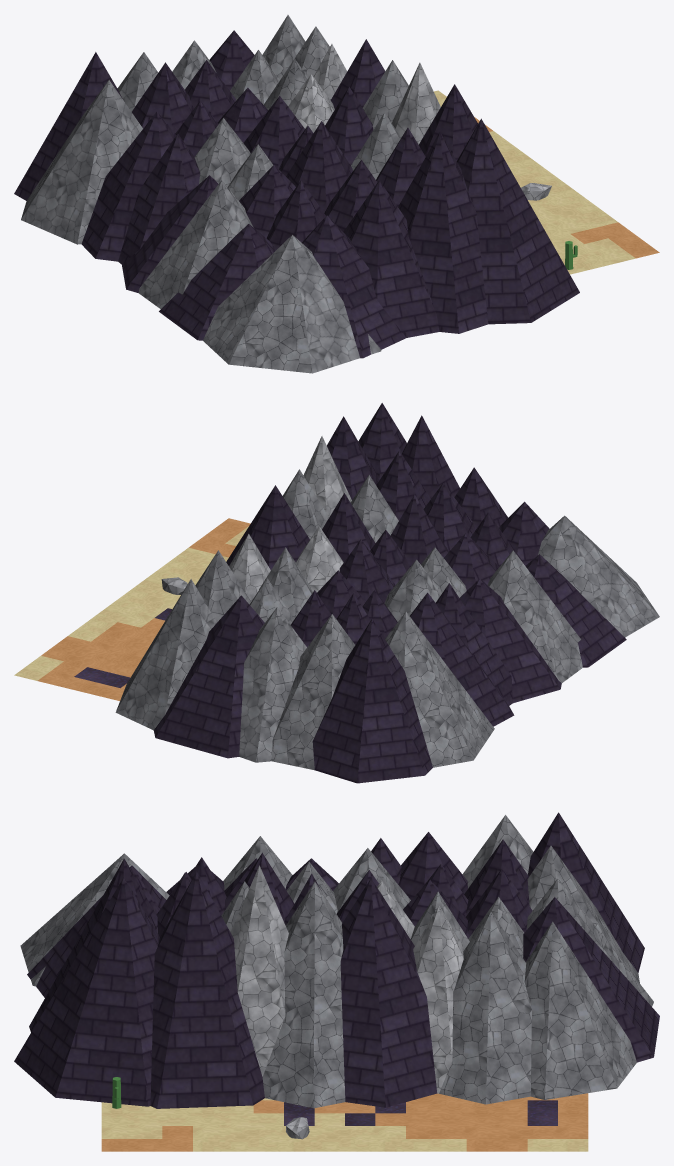
Rendered from chunk_8_22.glb.
The picture shows the model from 3 angles, top to bottom: view 1: azimuth 30°, elevation 25°; view 2: azimuth 150°, elevation 25°; view 3: azimuth 270°, elevation 25°; orthographic projection. The views are drawn at different scales.
Visible parts, largest first — view 1: chunk_8_22; view 2: chunk_8_22; view 3: chunk_8_22.
Part boxes in pixels (bbox=[...]): chunk_8_22: bbox=[14, 15, 659, 373]; chunk_8_22: bbox=[14, 403, 659, 783]; chunk_8_22: bbox=[14, 812, 659, 1151].
Size of the model in its own units: 18.58 by 7.46 by 21.23.
Materials: 9 (8 with a texture image).
